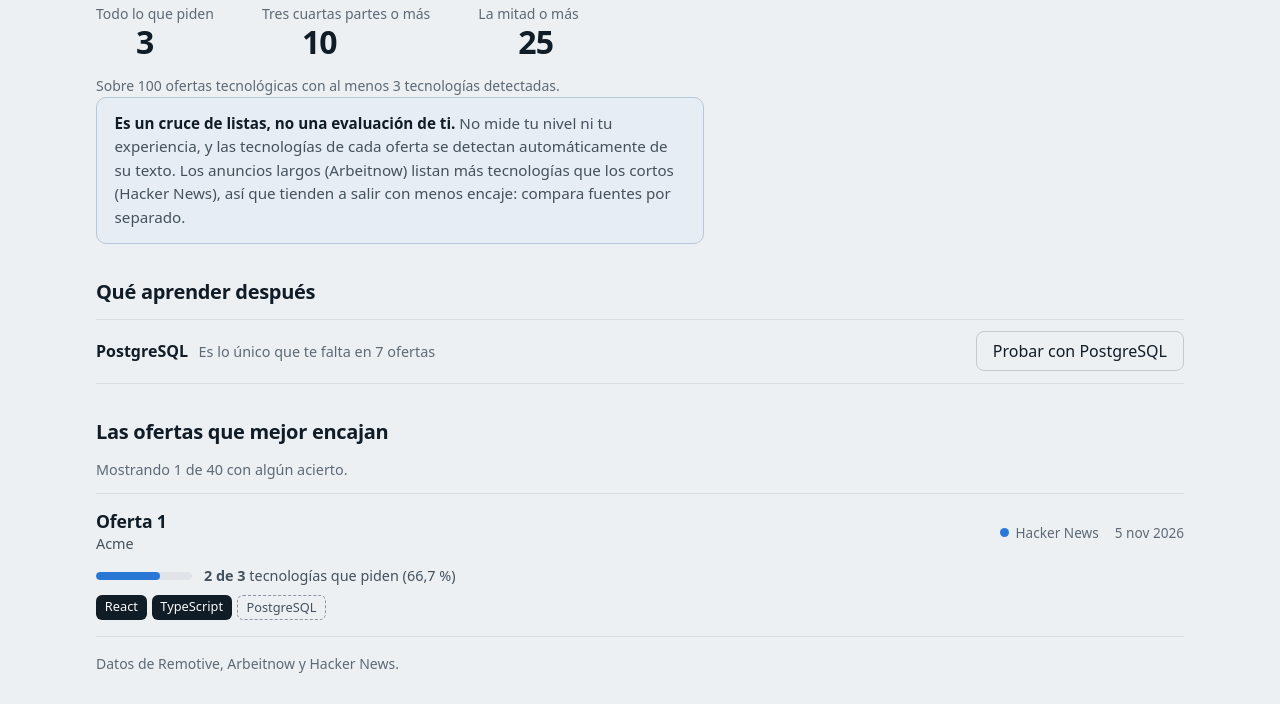
Test case: Mi match › "Probar con X" añade la tecnología al perfil y vuelve a consultar
(page scrolled)
Click the button "Probar con PostgreSQL" at {"x": 1080, "y": 351}, box [976, 331, 1184, 372]
(page scrolled)
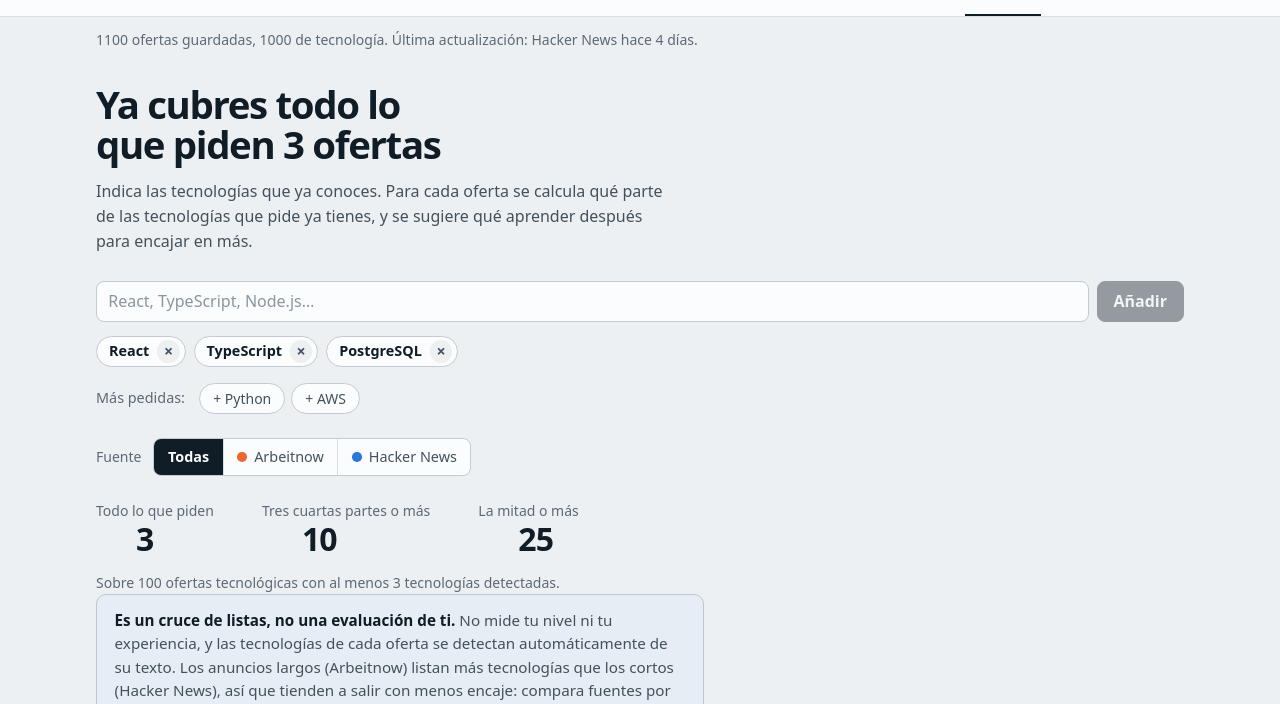
Result: the button named "Quitar PostgreSQL" is shown at [430, 340, 452, 362]
